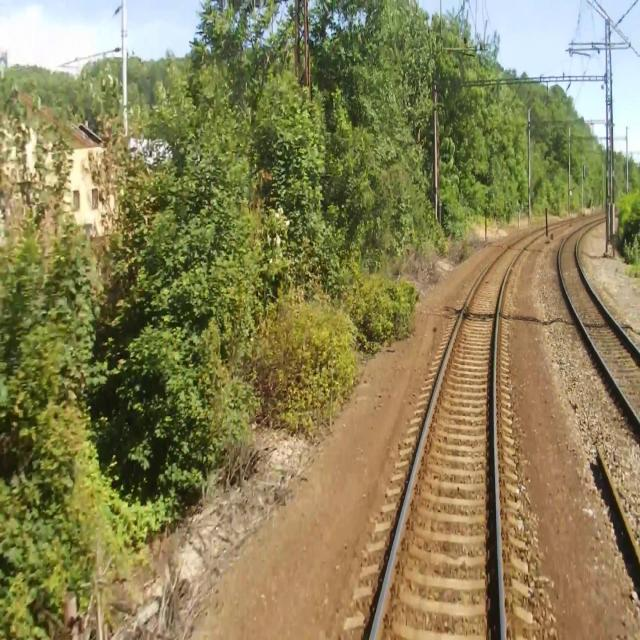rail-track: (374, 227, 546, 639), (559, 217, 640, 414)
